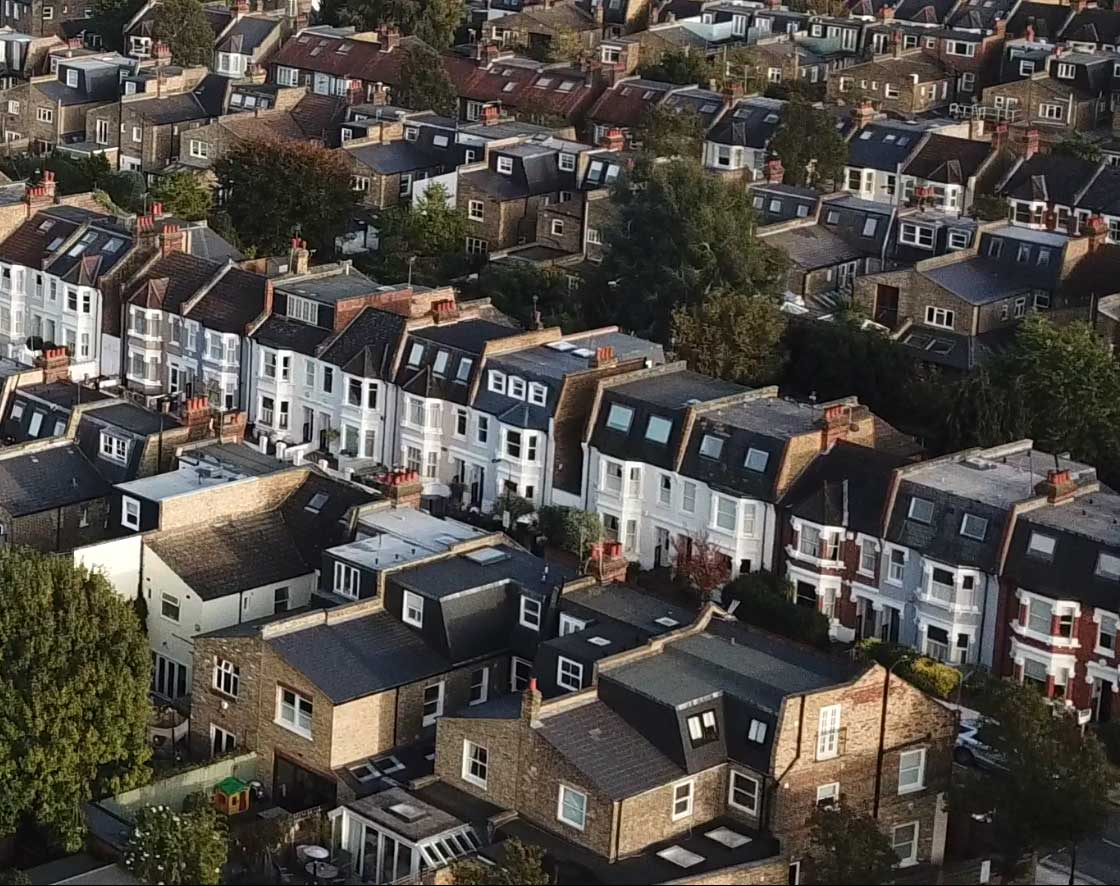building: (418, 602, 956, 837), (759, 405, 1088, 683), (379, 316, 628, 529), (231, 265, 485, 471), (99, 231, 296, 399)
